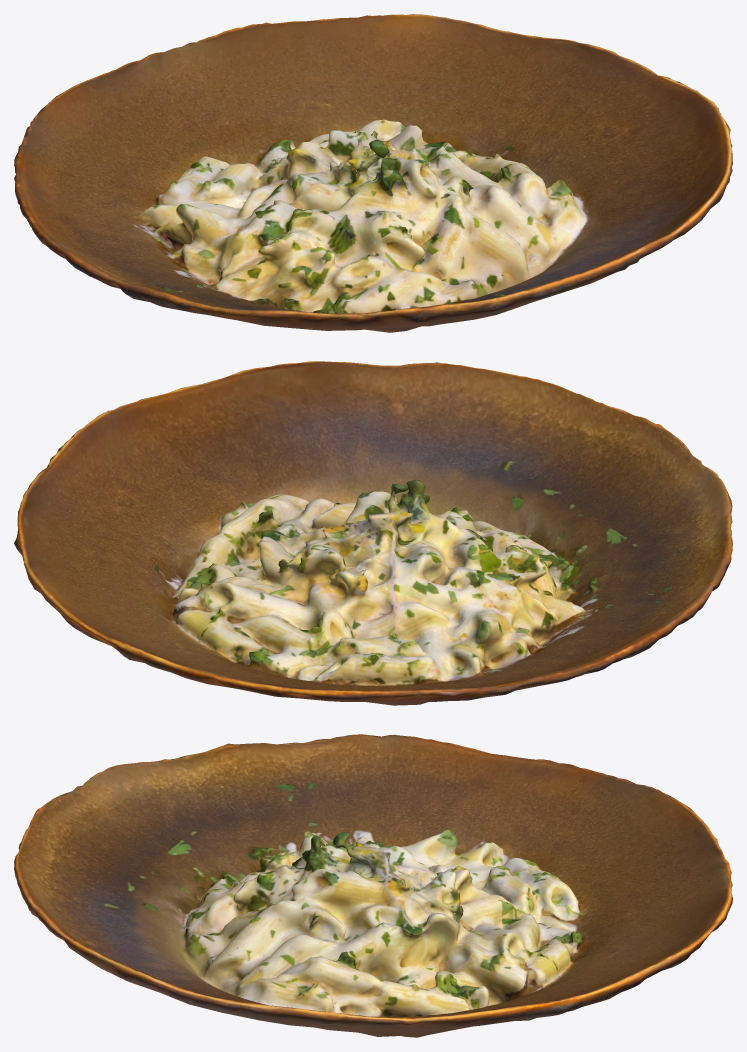
File: penne-4-fromages.ar.glb
3 views of the same model, one above another, from view 1: azimuth 30°, elevation 25°; view 2: azimuth 150°, elevation 25°; view 3: azimuth 270°, elevation 25° (orthographic).
Visible parts, largest first — view 1: /ObjectCapture/Geometry/Mesh; view 2: /ObjectCapture/Geometry/Mesh; view 3: /ObjectCapture/Geometry/Mesh.
Part boxes in pixels (x1,y1,x2,y2): /ObjectCapture/Geometry/Mesh: (14,14,732,332); /ObjectCapture/Geometry/Mesh: (14,361,732,705); /ObjectCapture/Geometry/Mesh: (14,734,732,1037).
Size of the model in its own units: 0.268 by 0.0549 by 0.2697.
Materials: 1 (1 with a texture image).
